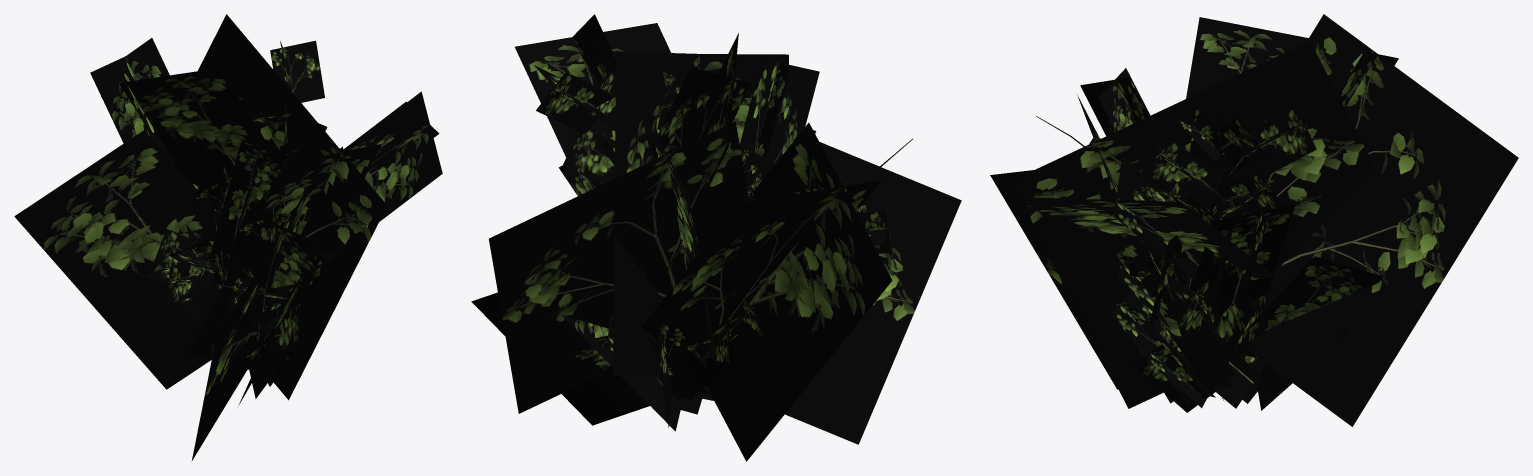
File: corylopsis_summer_fall.glb
3 views of the same model, side by side, from view 1: azimuth 30°, elevation 25°; view 2: azimuth 150°, elevation 25°; view 3: azimuth 270°, elevation 25° (orthographic). The views are drawn at different scales.
Parts seen in each view (by area): view 1: 2_Leaves; view 2: 2_Leaves; view 3: 2_Leaves.
Boxes of the visible parts, x1,y1,x2,y2 form: 2_Leaves: [14, 14, 442, 461]; 2_Leaves: [471, 14, 961, 461]; 2_Leaves: [990, 14, 1518, 426].
Size of the model in its own units: 70.25 by 66.74 by 76.97.
Materials: 1 (1 with a texture image).
